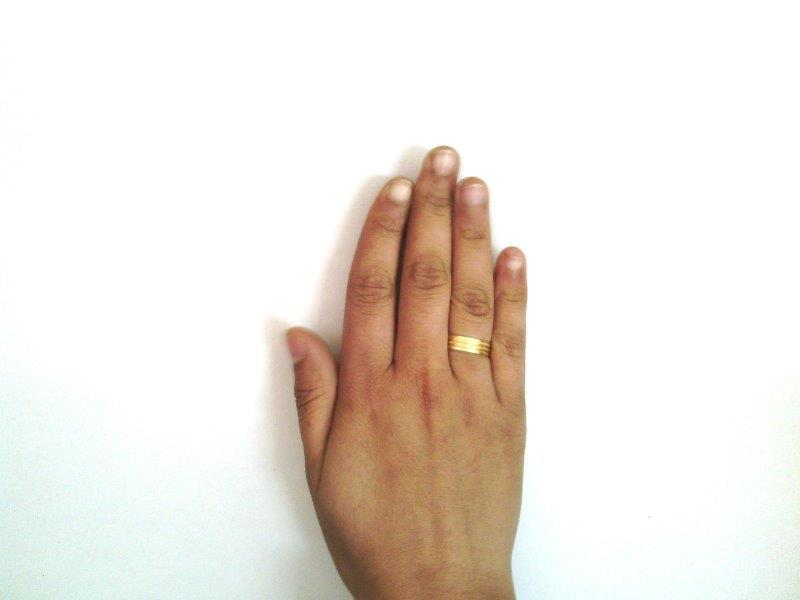hand: (285, 146, 528, 582)
